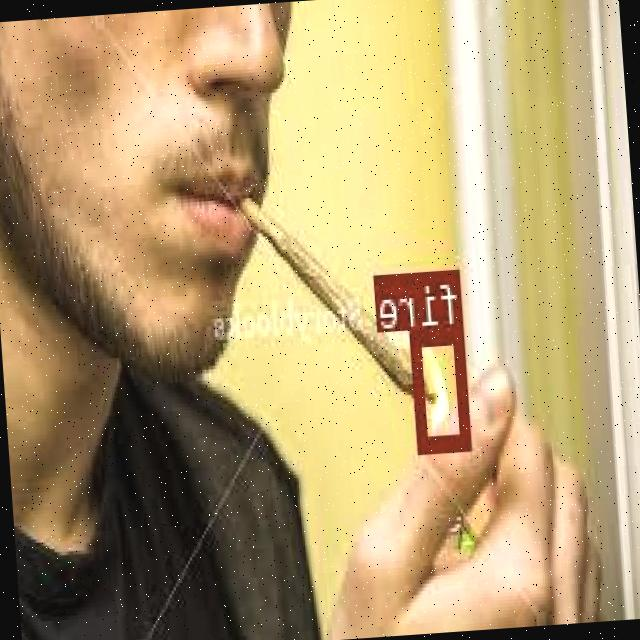fire: (412, 324, 473, 450)
